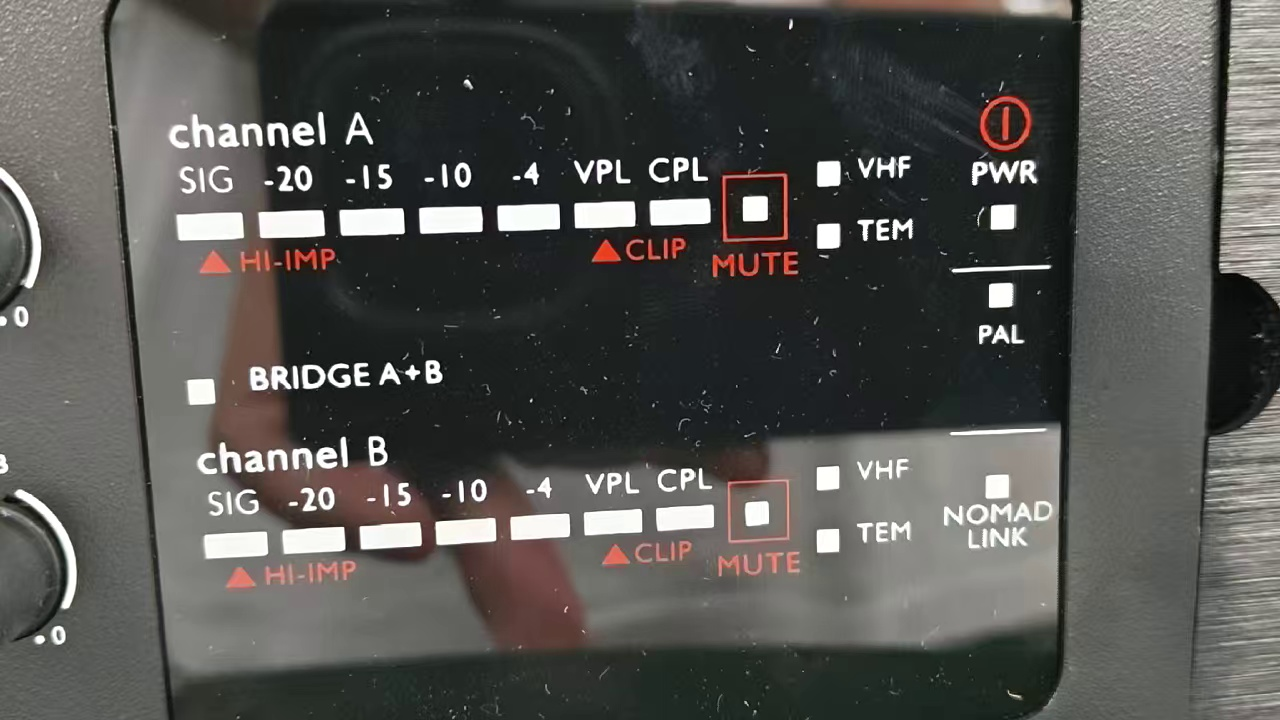FP_CPL: (643, 154, 715, 234), (654, 464, 719, 537)
FP_PWR: (965, 156, 1044, 239)
FP_PWR_area: (952, 92, 1048, 268)
FP_SIG_area: (190, 455, 920, 601), (165, 152, 922, 290)
FP_VPL: (567, 155, 639, 235), (581, 464, 649, 540)
